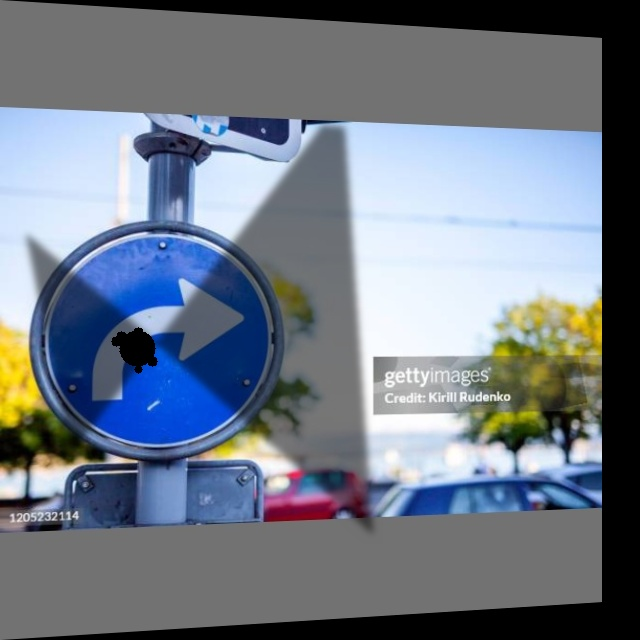Compulsory_Turn_Right_Ahead: (40, 221, 276, 456)
